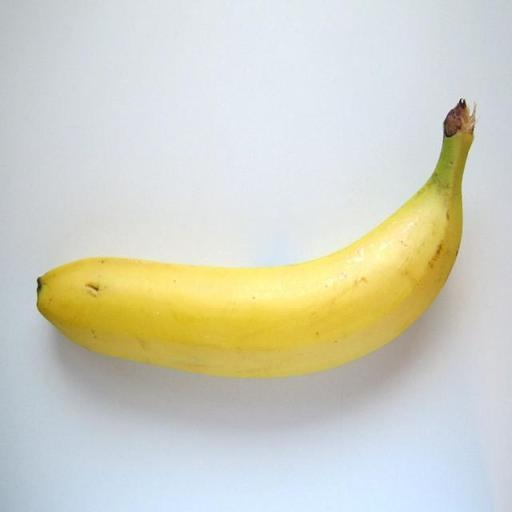fruit: (452, 63, 496, 214)
